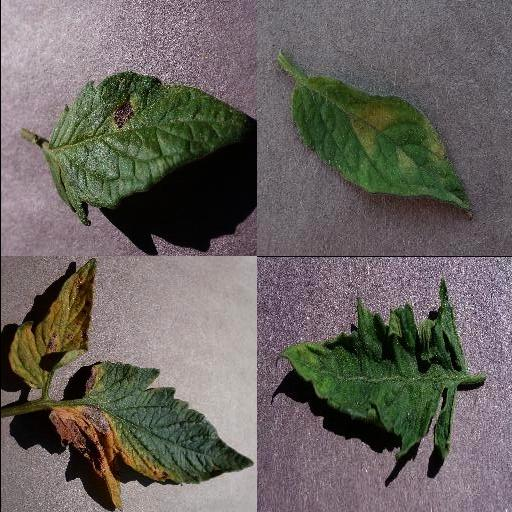Early Blight: (40, 71, 250, 228), (46, 361, 254, 512)
Leaf Mold: (290, 77, 472, 216)
Mosaic Virus: (275, 277, 465, 465)
